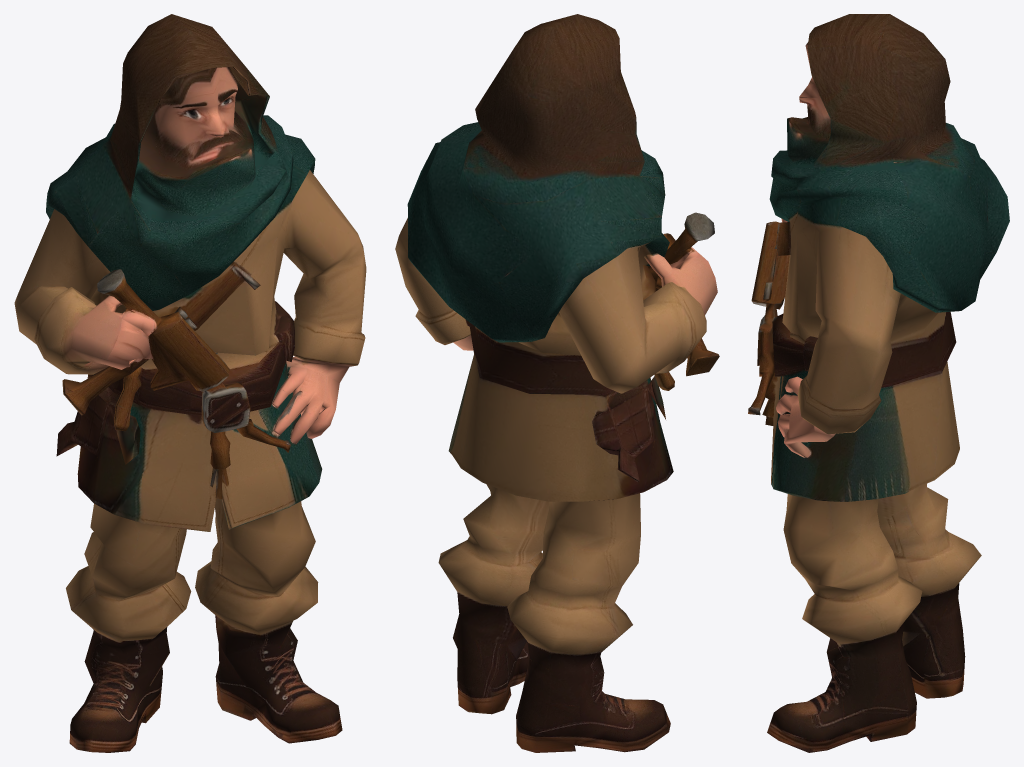
The model's file is rival-pasture.glb.
3 views of the same model, side by side, from view 1: azimuth 30°, elevation 25°; view 2: azimuth 150°, elevation 25°; view 3: azimuth 270°, elevation 25° (orthographic). The views are drawn at different scales.
Bounding box in the file's own units: 0.4385 × 0.9526 × 0.3316.
1 material, 1 textured.
